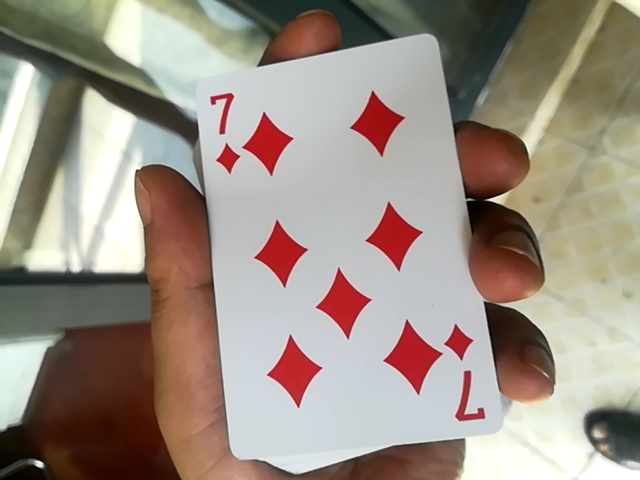fk 7: (182, 30, 481, 466)
